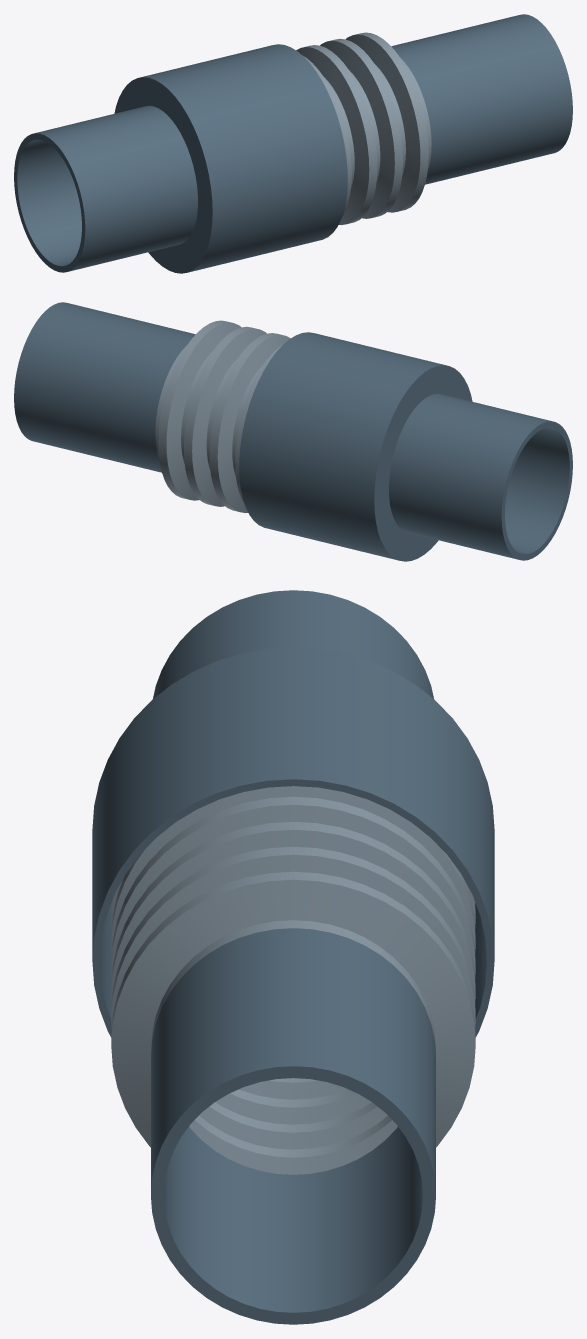
File: silf-dn65-L300-D76-k-o95.glb
The picture shows the model from 3 angles, top to bottom: view 1: azimuth 30°, elevation 25°; view 2: azimuth 150°, elevation 25°; view 3: azimuth 270°, elevation 25°; orthographic projection. The views are drawn at different scales.
Visible parts, largest first — view 1: osnovanie_kozhuh_1, patrubok_1, patrubok_2, prokladka_silfon_1; view 2: osnovanie_kozhuh_1, patrubok_1, patrubok_2, prokladka_silfon_1; view 3: patrubok_2, prokladka_silfon_1, osnovanie_kozhuh_1, patrubok_1.
Boxes of the visible parts, box(x1,y1,x2,y2) form: osnovanie_kozhuh_1: box(114, 44, 347, 273); patrubok_1: box(14, 105, 197, 272); patrubok_2: box(391, 14, 572, 184); prokladka_silfon_1: box(296, 32, 431, 224); osnovanie_kozhuh_1: box(239, 332, 472, 561); patrubok_1: box(389, 393, 572, 560); patrubok_2: box(14, 302, 195, 472); prokladka_silfon_1: box(155, 320, 290, 512); patrubok_2: box(151, 928, 435, 1324); prokladka_silfon_1: box(111, 786, 475, 1174); osnovanie_kozhuh_1: box(92, 647, 494, 1037); patrubok_1: box(152, 590, 434, 699).
Size of the model in its own units: 300 by 107 by 107.
